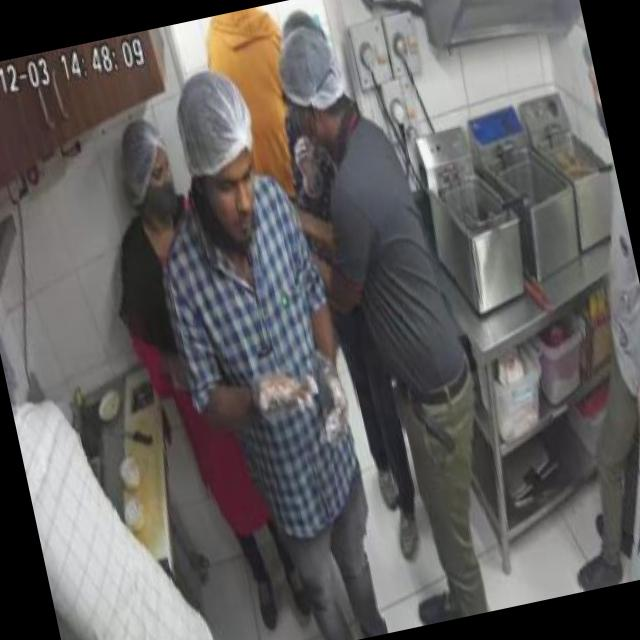hairnet: (168, 68, 254, 170), (274, 29, 346, 112), (110, 118, 162, 189)
